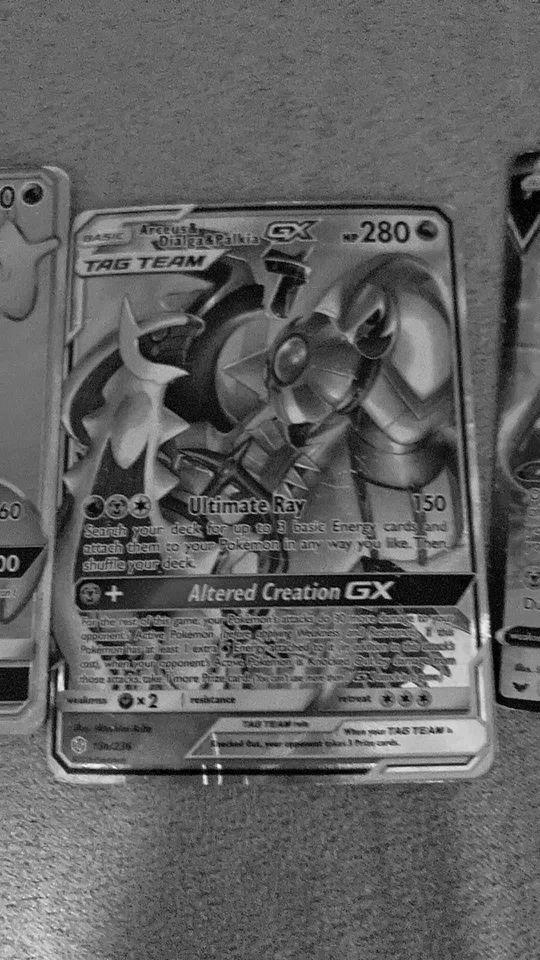card: (46, 200, 500, 787), (0, 163, 73, 736), (487, 150, 540, 714)
